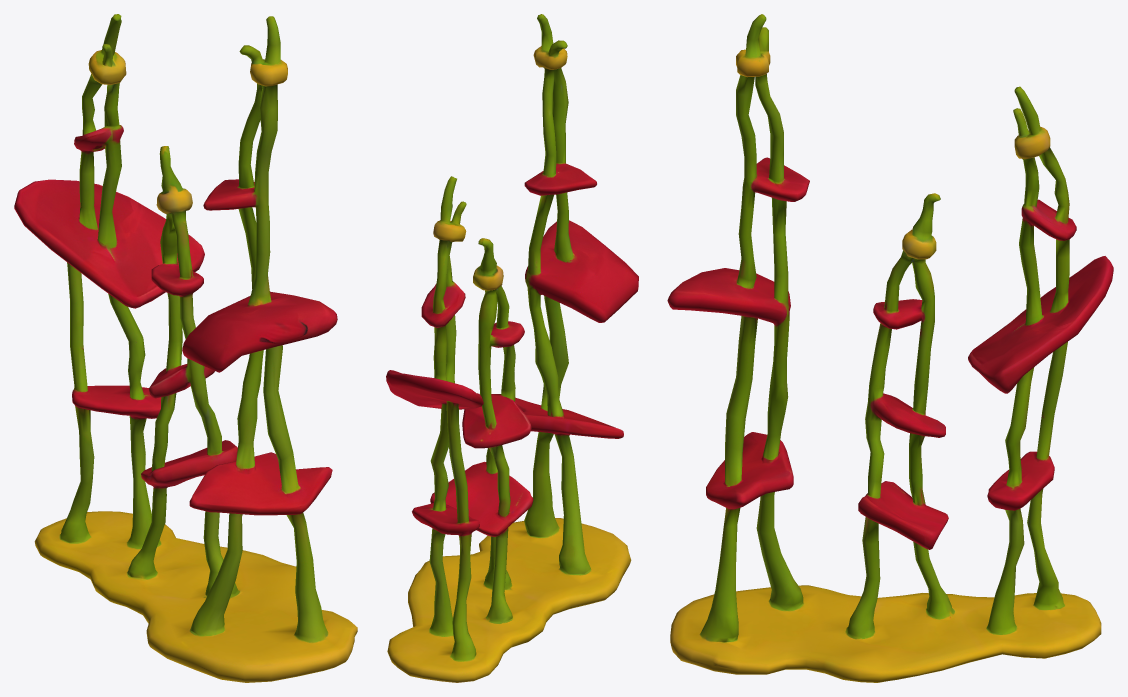
File: 25ecb4b4-6b6a-472d-ba67-f2f3f2db74af.glb
3 renders of one model, left to right at view 1: azimuth 30°, elevation 25°; view 2: azimuth 150°, elevation 25°; view 3: azimuth 270°, elevation 25°, orthographic. The views are drawn at different scales.
Visible parts, largest first — view 1: tripo_node_04878b9b-861c-4c59-b1bb-eccc0092b45d; view 2: tripo_node_04878b9b-861c-4c59-b1bb-eccc0092b45d; view 3: tripo_node_04878b9b-861c-4c59-b1bb-eccc0092b45d.
Boxes of the visible parts, x1,y1,x2,y2 form: tripo_node_04878b9b-861c-4c59-b1bb-eccc0092b45d: [14, 14, 357, 682]; tripo_node_04878b9b-861c-4c59-b1bb-eccc0092b45d: [386, 14, 638, 682]; tripo_node_04878b9b-861c-4c59-b1bb-eccc0092b45d: [667, 14, 1113, 682].
Size of the model in its own units: 0.3072 by 1 by 0.636.
1 material, 1 textured.
